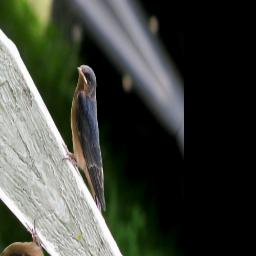Swallow: (45, 54, 139, 222)
